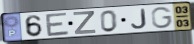0: (98, 9, 118, 33)
6: (23, 14, 44, 38)
E: (44, 12, 71, 38)
G: (151, 6, 175, 29)
J: (130, 8, 148, 30)
Z: (72, 10, 98, 35)
